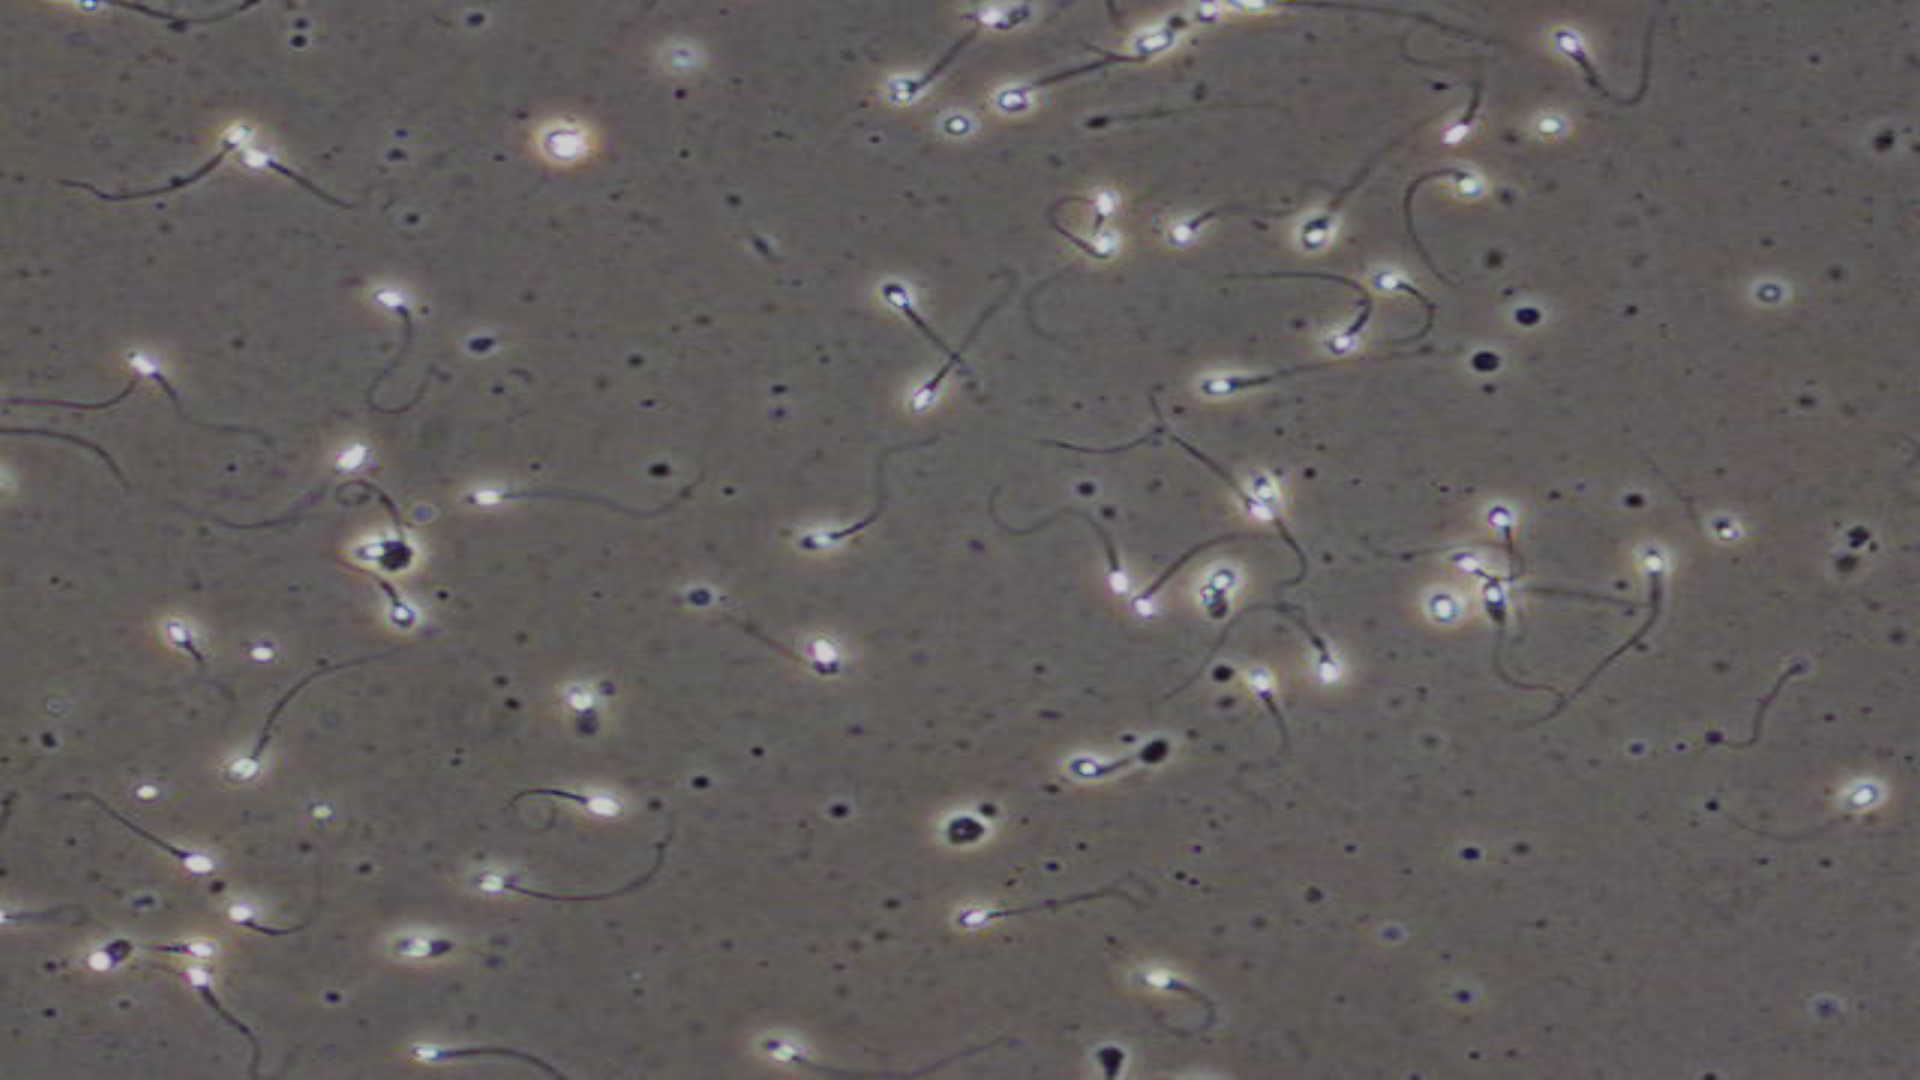sperm: (353, 278, 468, 429), (120, 343, 278, 450), (945, 884, 1185, 949), (73, 795, 231, 889), (210, 679, 328, 799), (736, 1023, 984, 1080), (181, 971, 306, 1080), (65, 129, 253, 196), (774, 467, 909, 553), (884, 280, 988, 389), (460, 475, 692, 521), (473, 848, 651, 906), (239, 152, 378, 225), (400, 1029, 589, 1077), (1296, 160, 1393, 255), (1370, 268, 1456, 373), (1545, 20, 1662, 98), (1124, 549, 1236, 628), (1265, 277, 1375, 356), (1606, 545, 1685, 655), (1029, 506, 1131, 591), (1058, 717, 1168, 793), (1245, 467, 1325, 568), (870, 28, 984, 99), (1396, 166, 1485, 257), (1131, 963, 1234, 1040), (1782, 777, 1888, 849), (1429, 61, 1507, 149), (1188, 359, 1317, 409), (1188, 450, 1271, 527), (224, 889, 339, 942), (909, 342, 990, 414), (992, 63, 1097, 117), (504, 781, 620, 825), (1164, 202, 1255, 251), (152, 611, 215, 680), (1484, 498, 1534, 578), (1058, 211, 1127, 266), (1079, 193, 1125, 253), (142, 932, 229, 960)
